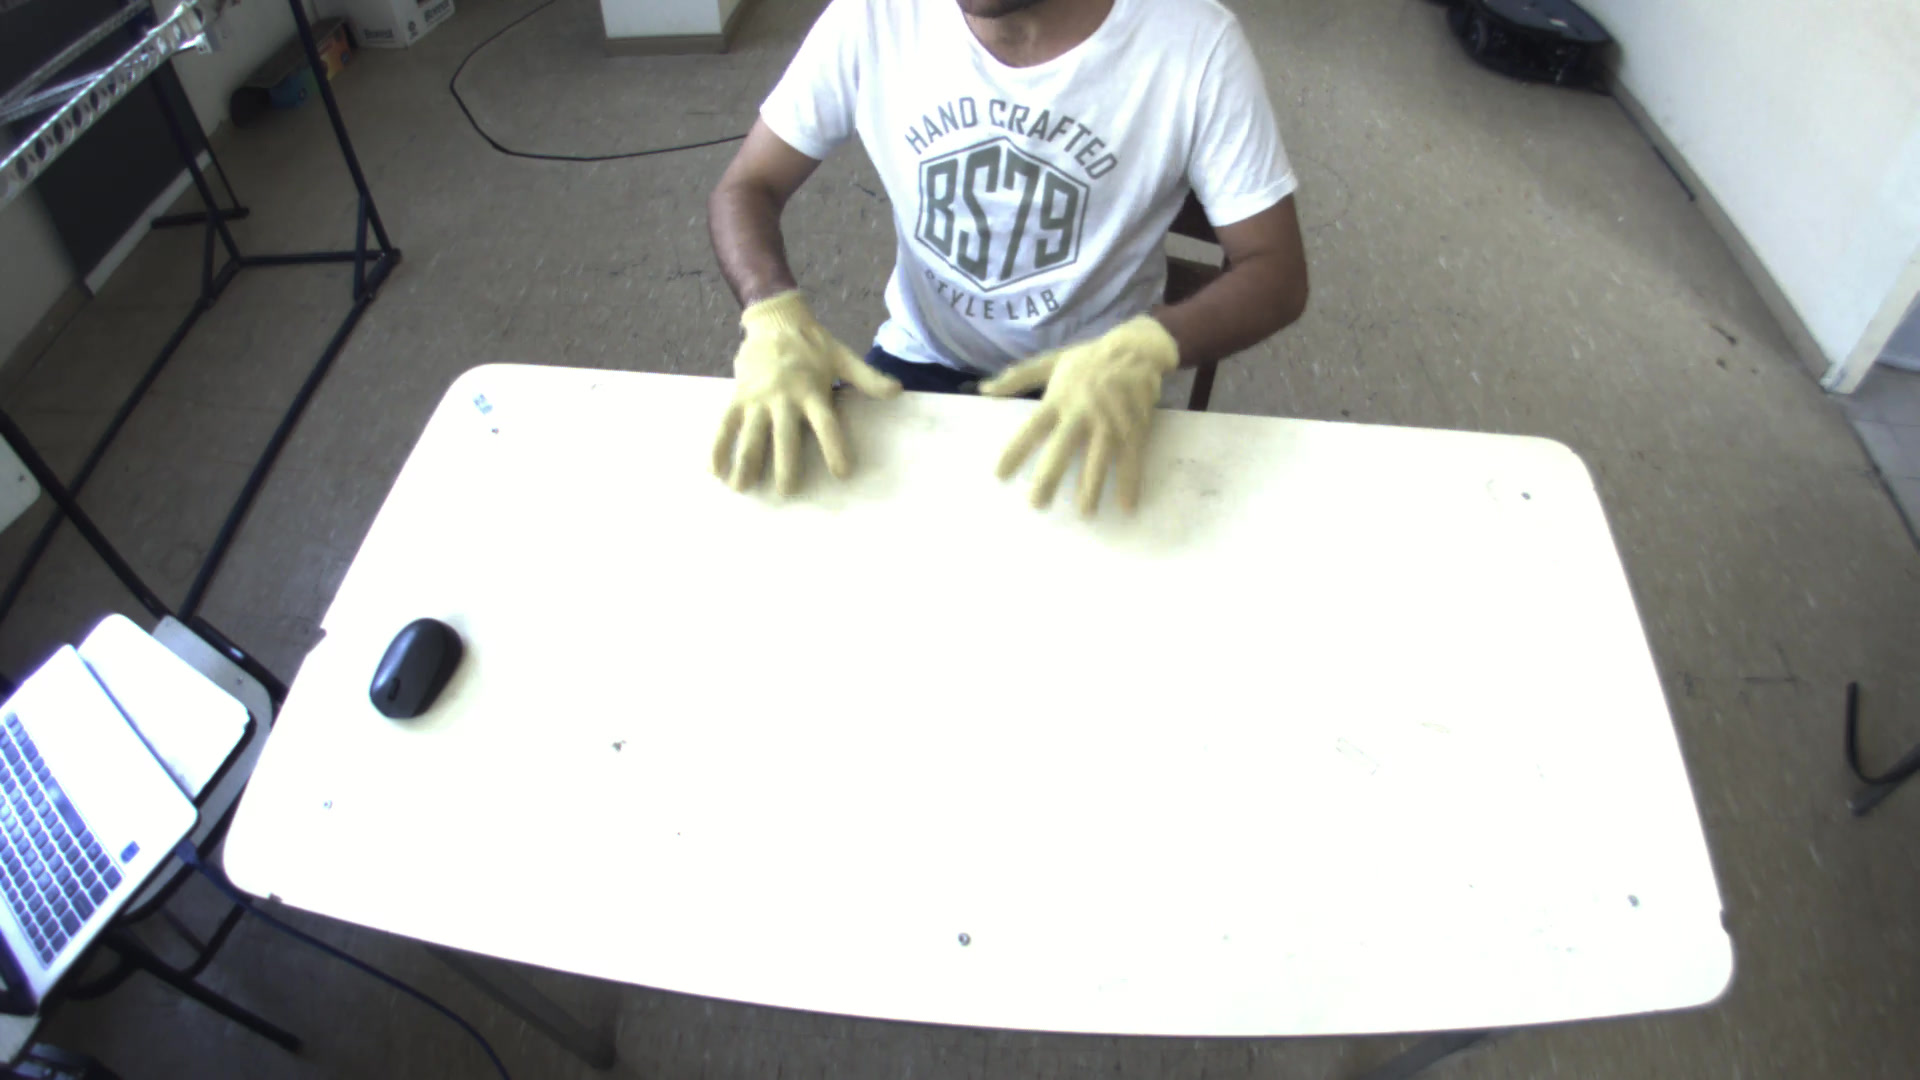hand: (967, 303, 1195, 530), (695, 277, 903, 506)
